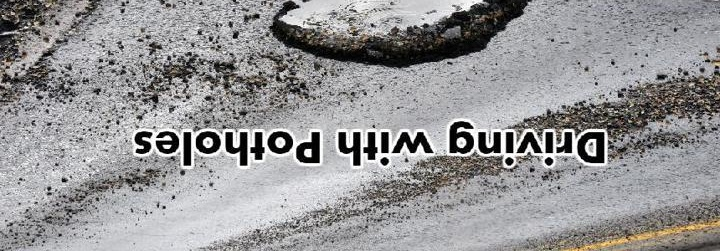pothole: (266, 0, 537, 71)
